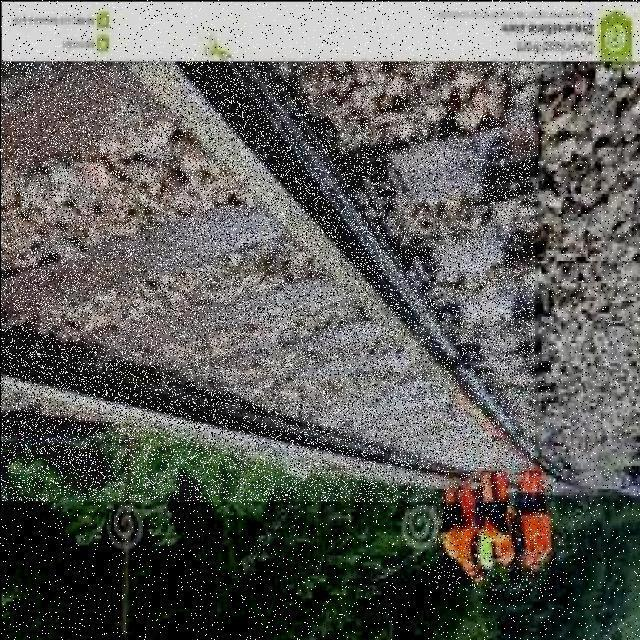rail: (3, 63, 536, 503)
